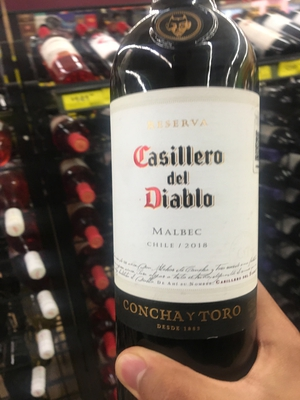casillero del diablo malbec: (103, 10, 273, 400)
